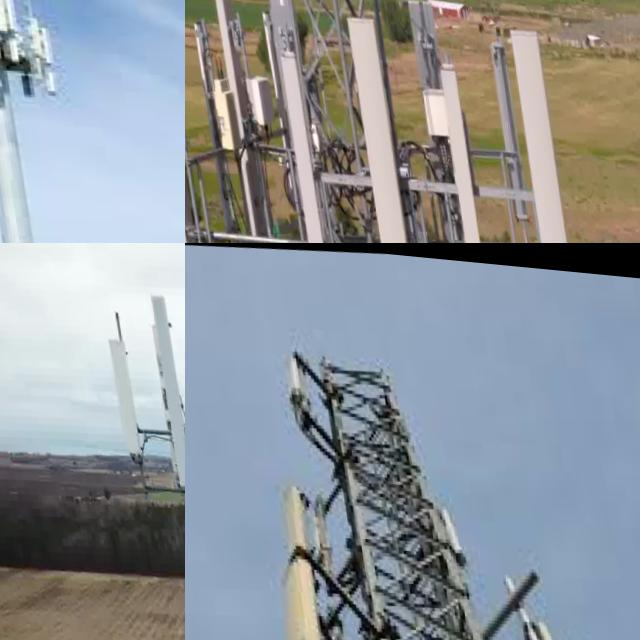GSM Antenna: (339, 2, 417, 243), (496, 11, 576, 243), (267, 35, 337, 243), (208, 0, 268, 242), (430, 49, 481, 243), (482, 19, 526, 219), (145, 281, 185, 492), (261, 553, 323, 640), (102, 325, 138, 462), (185, 0, 203, 243), (270, 469, 311, 568), (279, 345, 312, 415), (17, 7, 41, 71), (0, 0, 6, 31)
